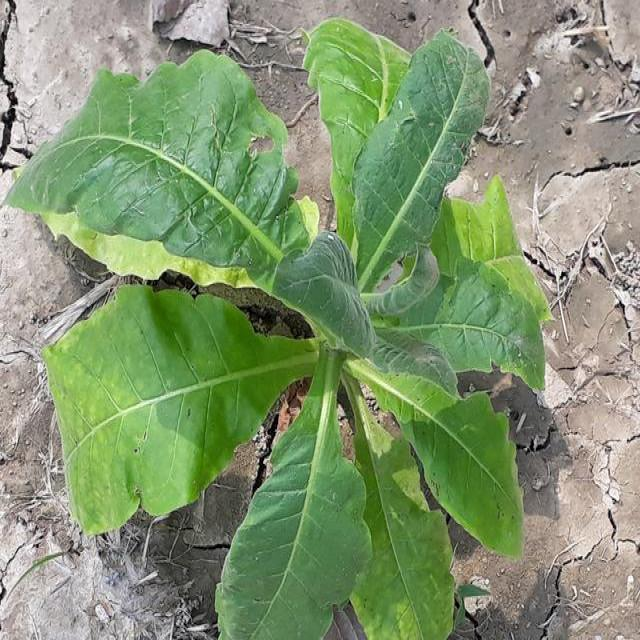crop: (37, 30, 555, 638)
